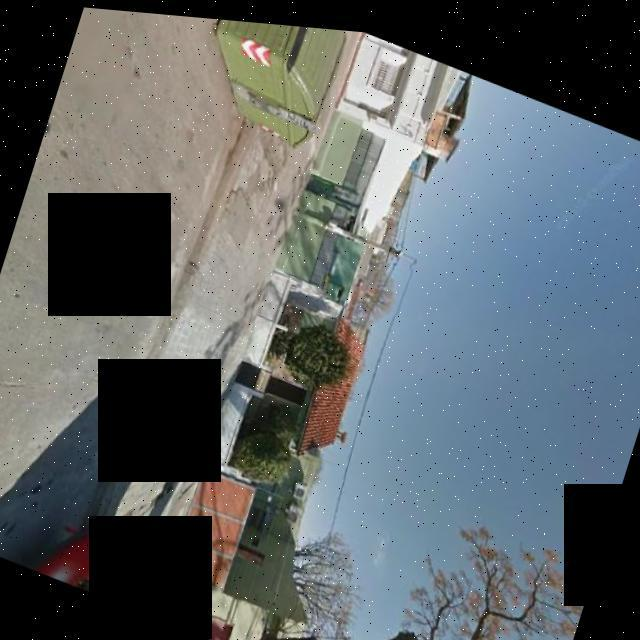bin: (169, 12, 363, 166)
